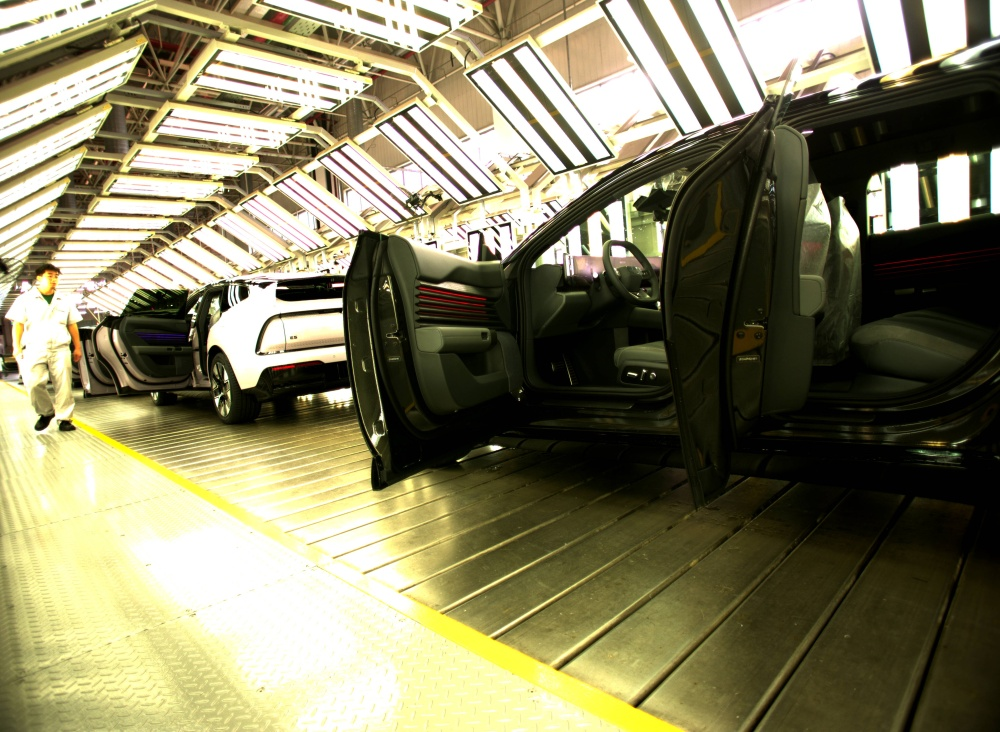armrest_color: (413, 324, 494, 354)
panel_color: (412, 276, 494, 328)
